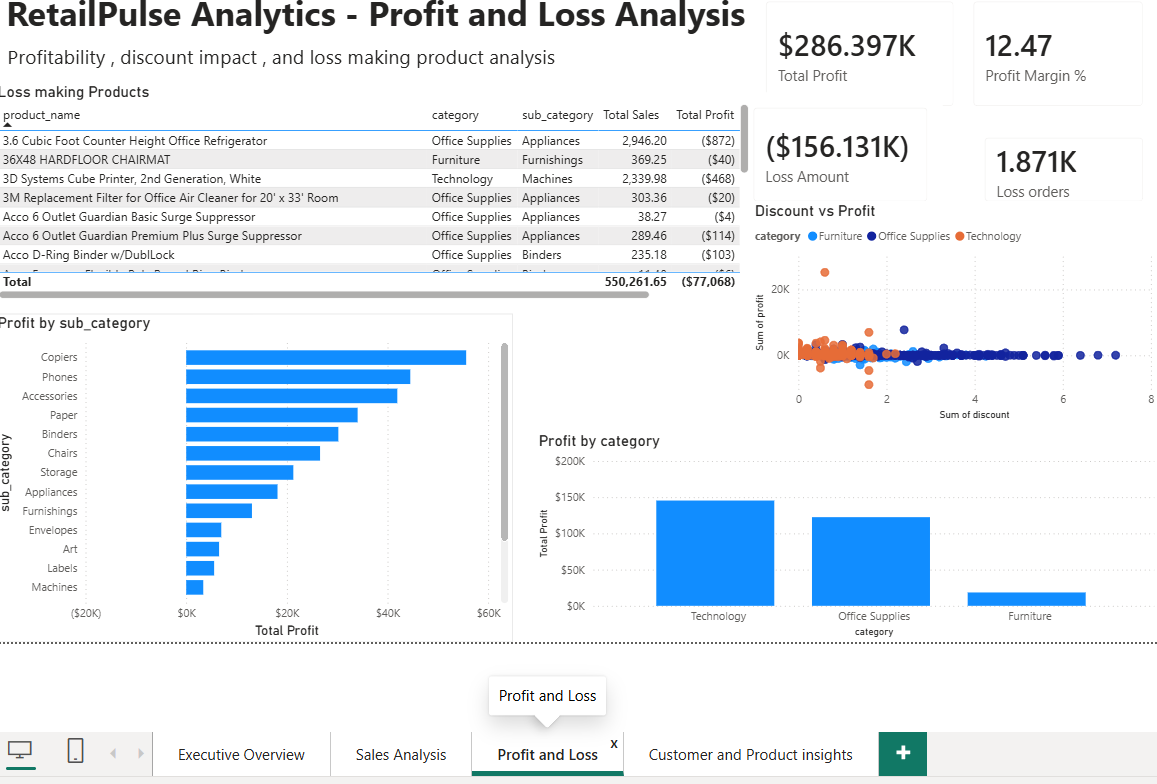

Layout of this report page (visuals, bound fields, positions):
{"tool":"powerbi","page":{"name":"Profit and Loss","canvas":[1280,720],"ordinal":2},"visuals":[{"type":"textbox","box":[9.6,0,860.4,57.6],"z":0},{"type":"textbox","box":[11,57.6,823.3,59],"z":1},{"type":"cardVisual","fields":{"Data":["orders.Total Profit"]},"box":[831.6,0,240.1,149.6],"z":2},{"type":"cardVisual","fields":{"Data":["orders.Profit Margin %"]},"box":[1059.4,0,220.9,149.6],"z":3},{"type":"cardVisual","fields":{"Data":["orders.Loss Amount"]},"box":[817.8,116.6,225,137.2],"z":4},{"type":"cardVisual","fields":{"Data":["orders.Loss orders"]},"box":[1071.7,149.6,208.6,104.3],"z":5},{"type":"clusteredColumnChart","title":"Profit by category","fields":{"Category":["orders.category"],"Y":["orders.Total Profit"]},"box":[594.2,488.5,686.1,231.9],"z":6},{"type":"barChart","title":"Profit by sub_category","fields":{"Category":["orders.sub_category"],"Y":["orders.Total Profit"]},"box":[0,359.5,570.8,360.9],"z":7},{"type":"scatterChart","title":"Discount vs Profit","fields":{"X":["Sum(orders.discount)"],"Y":["Sum(orders.profit)"],"Series":["orders.category"],"Category":["orders.product_name"]},"box":[831.6,236,448.7,245.6],"z":8},{"type":"tableEx","title":"Loss making Products","fields":{"Values":["orders.product_name","orders.category","orders.sub_category","orders.Total Sales","orders.Total Profit","orders.Average discount"]},"box":[0,105.7,834.3,242.9],"z":9}]}

Visuals, with their boxes on the page's 1280x720 design canvas (x1, y1, x2, y2). These are canvas units, not pixel positions in the 1157x784 screenshot, which may show the page scaled, cropped or inside an application window:
textbox: detection(10, 0, 870, 58)
textbox: detection(11, 58, 834, 117)
cardVisual - orders.Total Profit: detection(832, 0, 1072, 150)
cardVisual - orders.Profit Margin %: detection(1059, 0, 1280, 150)
cardVisual - orders.Loss Amount: detection(818, 117, 1043, 254)
cardVisual - orders.Loss orders: detection(1072, 150, 1280, 254)
"Profit by category" clusteredColumnChart: detection(594, 488, 1280, 720)
"Profit by sub_category" barChart: detection(0, 360, 571, 720)
"Discount vs Profit" scatterChart: detection(832, 236, 1280, 482)
"Loss making Products" tableEx: detection(0, 106, 834, 349)
